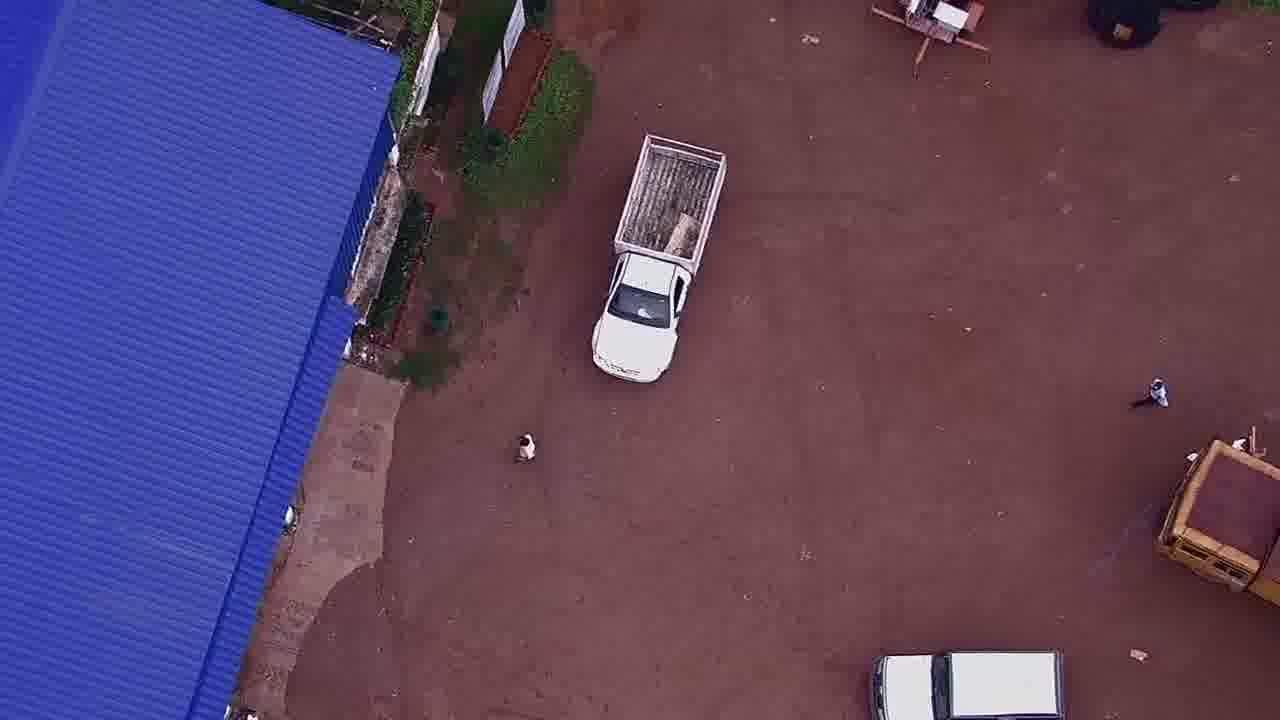LMV: (589, 128, 727, 381), (865, 633, 1069, 719)
Person: (1138, 362, 1169, 413), (514, 426, 538, 473)
